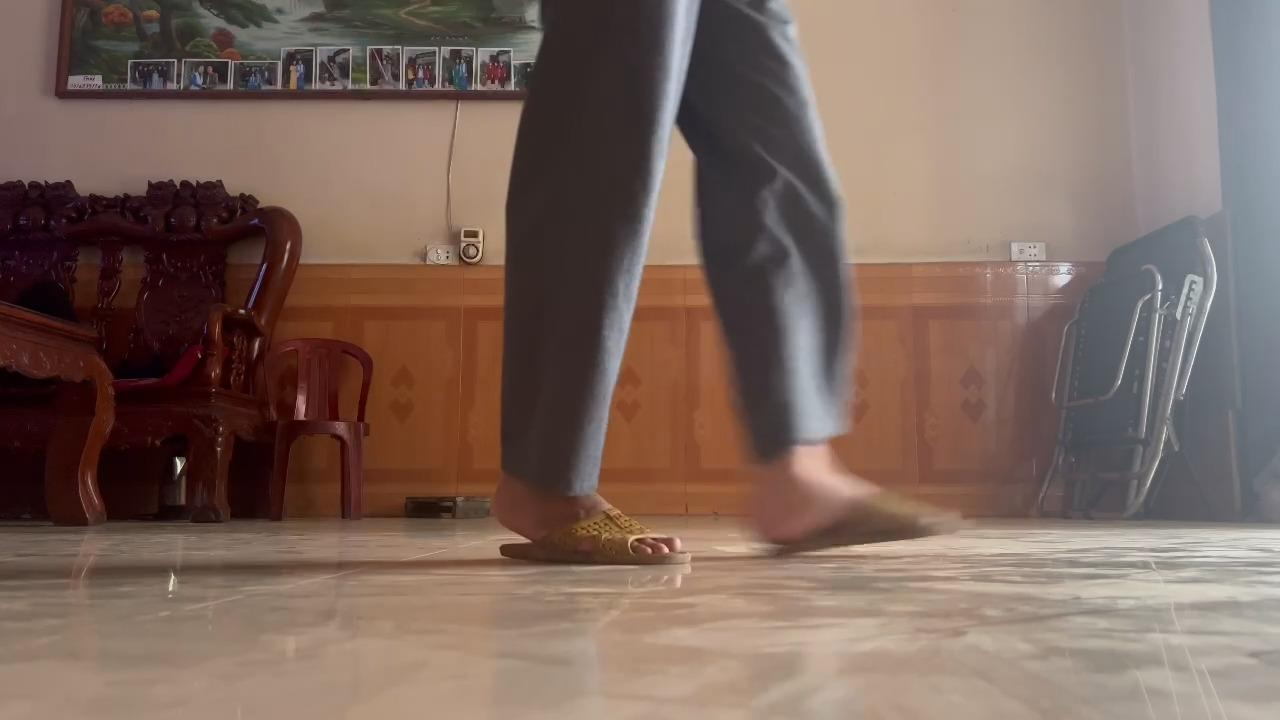no-boot: (746, 469, 974, 568), (485, 480, 699, 574)
